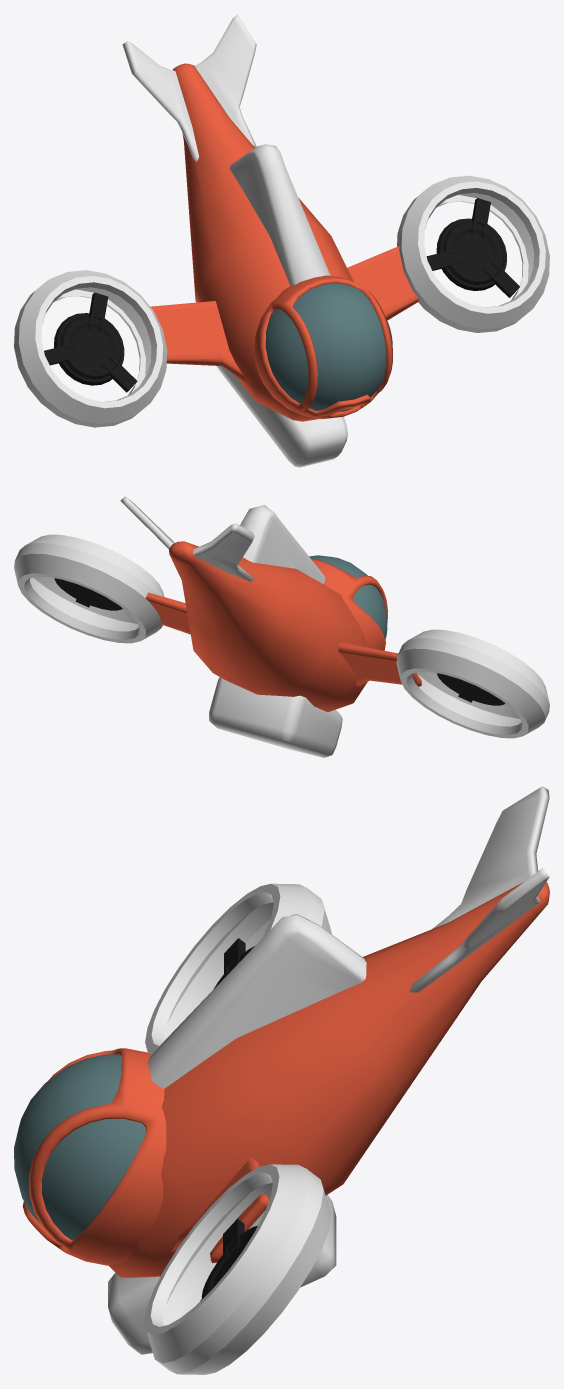
The model's file is capsula.fbx.
The picture shows the model from 3 angles, top to bottom: view 1: azimuth 30°, elevation 25°; view 2: azimuth 150°, elevation 25°; view 3: azimuth 270°, elevation 25°; orthographic projection. The views are drawn at different scales.
Visible parts, largest first — view 1: boat; view 2: boat; view 3: boat.
Part boxes in pixels (box(x1,y1,x2,y2)): boat: box(14, 14, 549, 467); boat: box(14, 496, 549, 757); boat: box(14, 786, 549, 1374).
Size of the model in its own units: 798 by 495 by 468.
